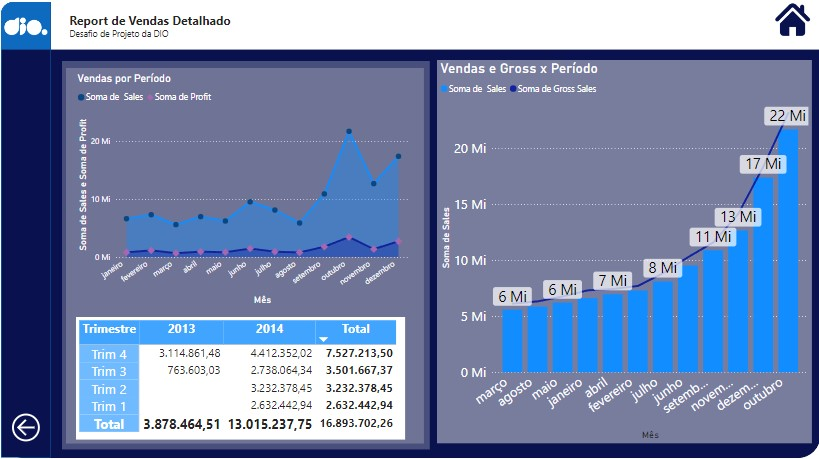

The page's visual inventory and layout, read from the dashboard file:
{"tool":"powerbi","page":{"name":"Página 3","canvas":[1280,720],"ordinal":2},"visuals":[{"type":"group","id":"g1","title":"Layout","box":[10,12.8,1270,707],"z":0},{"type":"shape","box":[10,12.8,1270,707],"z":0,"group":"g1"},{"type":"shape","box":[103.6,103.6,569.9,601.9],"z":0,"group":"g2"},{"type":"shape","box":[10.1,13.4,77.2,706.3],"z":1000,"group":"g1"},{"type":"lineClusteredColumnComboChart","title":"Vendas e Gross x Período","fields":{"Category":["financials.Date.Variation.Hierarquia de datas.Mês"],"Y":["Sum(financials. Sales)"],"Y2":["Sum(financials.Gross Sales)"]},"box":[684.4,102.5,580.6,594.2],"z":1000},{"type":"shape","box":[110.3,114.6,554.7,582.1],"z":1000,"group":"g2"},{"type":"shape","box":[10.1,13.4,77.2,73.8],"z":2000,"group":"g1"},{"type":"group","id":"g2","title":"Detalhes venda x profit","box":[103.6,103.6,569.9,601.9],"z":2000},{"type":"image","title":"logo_dio","box":[10.1,18.4,77.2,62.1],"z":3000,"group":"g1"},{"type":"textbox","title":"Título do report","box":[109.7,22.9,377.9,64],"z":3000},{"type":"areaChart","title":"Vendas por Período","fields":{"Category":["financials.Date.Variation.Hierarquia de datas.Trimestre","financials.Date.Variation.Hierarquia de datas.Mês"],"Y":["Sum(financials. Sales)","Sum(financials.Profit)"]},"box":[121.9,120.5,523.2,366.1],"z":3000,"group":"g2"},{"type":"shape","box":[87,12.8,1193.1,74.1],"z":4000,"group":"g1"},{"type":"pivotTable","fields":{"Columns":["financials.Date.Variation.Hierarquia de datas.Ano"],"Rows":["financials.Date.Variation.Hierarquia de datas.Trimestre"],"Values":["Sum(financials.Profit)"]},"box":[126,500.3,509.5,189.9],"z":4000,"group":"g2"},{"type":"actionButton","box":[20.6,622.4,55.6,96.9],"z":6000},{"type":"image","box":[1203.5,8.2,64.2,64.2],"z":6001}]}

Visuals, with their boxes in screenshot pixels (x1, y1, x2, y2), scaled from the page's 1280x720 canvas onto the 819x459 screenshot:
"Layout" group: Rect(6, 8, 818, 458)
shape: Rect(6, 8, 818, 458)
shape: Rect(66, 66, 431, 450)
shape: Rect(6, 9, 56, 458)
"Vendas e Gross x Período" lineClusteredColumnComboChart: Rect(438, 65, 809, 444)
shape: Rect(71, 73, 425, 444)
shape: Rect(6, 9, 56, 56)
"Detalhes venda x profit" group: Rect(66, 66, 431, 450)
"logo_dio" image: Rect(6, 12, 56, 51)
"Título do report" textbox: Rect(70, 15, 312, 55)
"Vendas por Período" areaChart: Rect(78, 77, 413, 310)
shape: Rect(56, 8, 818, 55)
pivotTable - financials.Date.Variation.Hierarquia de datas.Ano x financials.Date.Variation.Hierarquia de datas.Trimestre: Rect(81, 319, 407, 440)
actionButton: Rect(13, 397, 49, 458)
image: Rect(770, 5, 811, 46)
